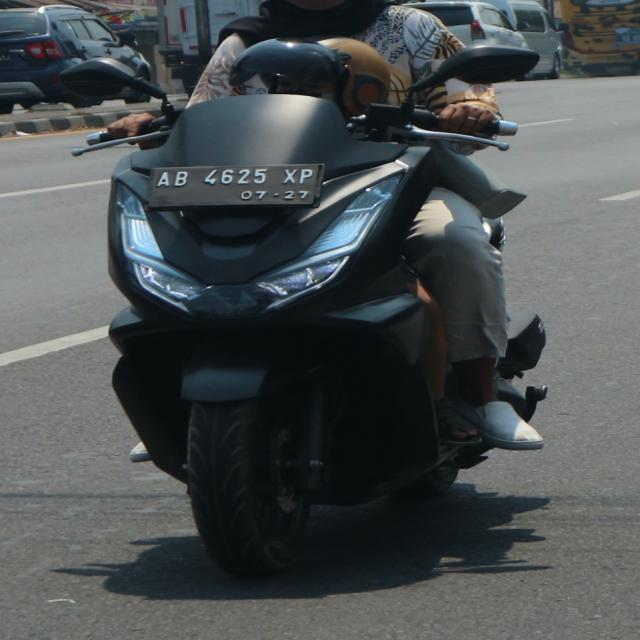Plate-Number: (133, 151, 330, 221)
